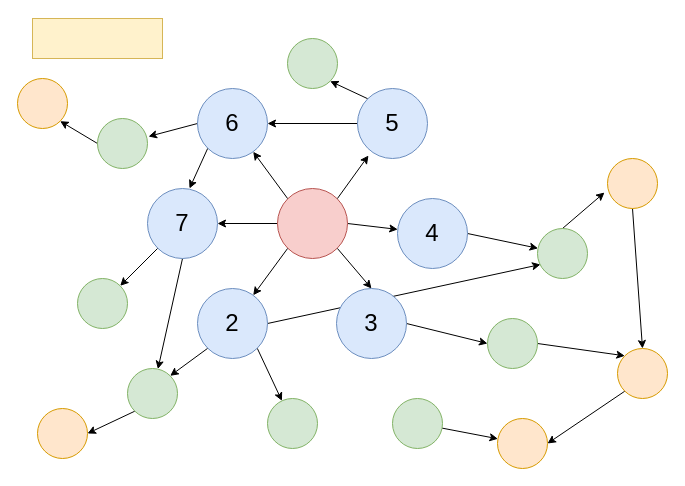
Some shapes in this 685 by 486 pixel diagram are drawn without their labels. Each missing label, with the box of its shape:
Graph: (32, 18, 162, 58)
Me: (276, 188, 348, 258)
